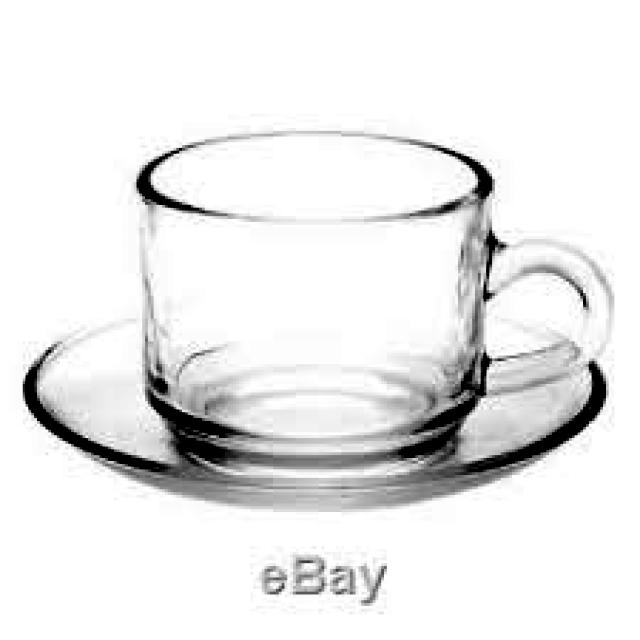Glass: (132, 125, 615, 461)
